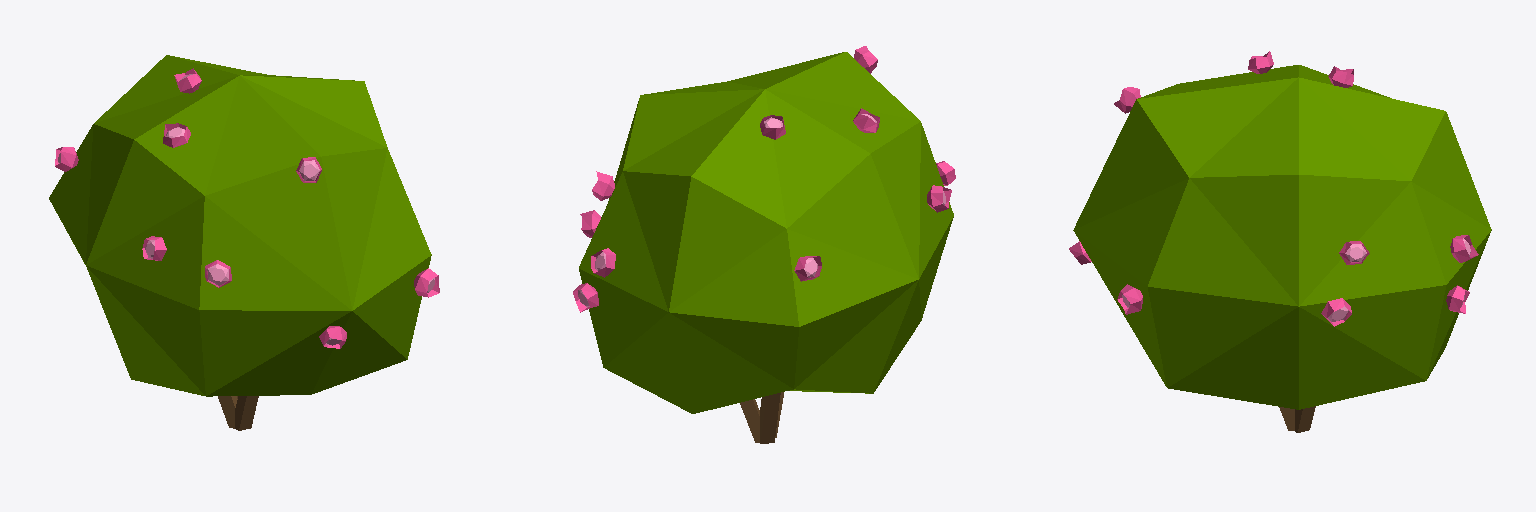
The picture shows the model from 3 angles: view 1: azimuth 30°, elevation 25°; view 2: azimuth 150°, elevation 25°; view 3: azimuth 270°, elevation 25°; orthographic projection.
Visible parts, largest first — view 1: Geo_RoseBush; view 2: Geo_RoseBush; view 3: Geo_RoseBush.
Part boxes in pixels (x1,y1,x2,y2): Geo_RoseBush: (49,55,439,430); Geo_RoseBush: (573,46,955,443); Geo_RoseBush: (1069,51,1491,432).
Size of the model in its own units: 31.61 by 32.97 by 36.09.
Materials: 1 (1 with a texture image).